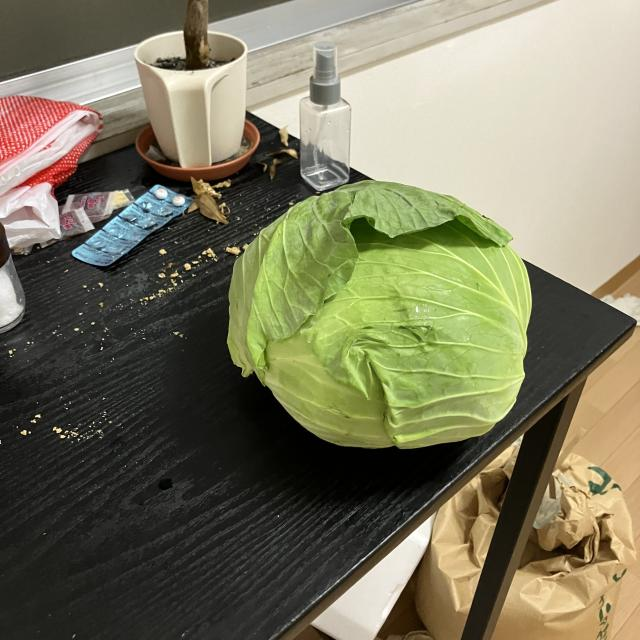cabbage: (220, 178, 537, 454)
